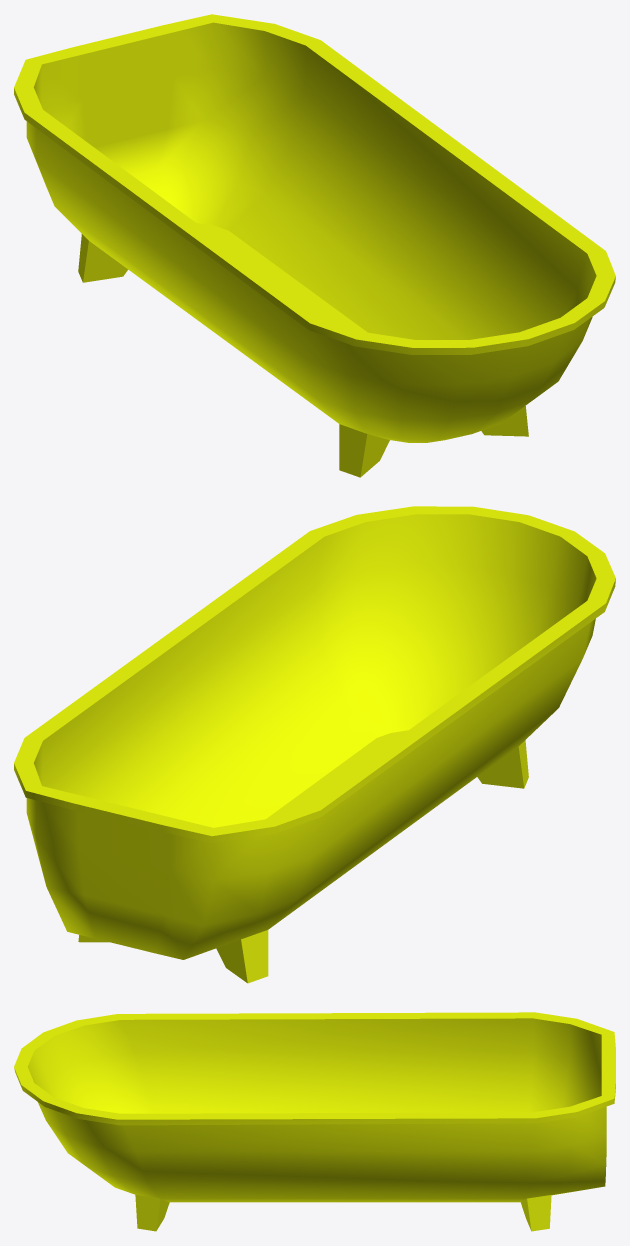
File: Bathtub3.FBX
The picture shows the model from 3 angles, top to bottom: view 1: azimuth 30°, elevation 25°; view 2: azimuth 150°, elevation 25°; view 3: azimuth 270°, elevation 25°; orthographic projection. The views are drawn at different scales.
Parts seen in each view (by area): view 1: Sphere005; view 2: Sphere005; view 3: Sphere005.
Boxes of the visible parts, left/top/right/bottom form: Sphere005: left=14, top=14, right=615, bottom=477; Sphere005: left=14, top=506, right=615, bottom=983; Sphere005: left=14, top=1012, right=615, bottom=1231.
Bounding box in the file's own units: 1.58 × 0.9256 × 3.8.
